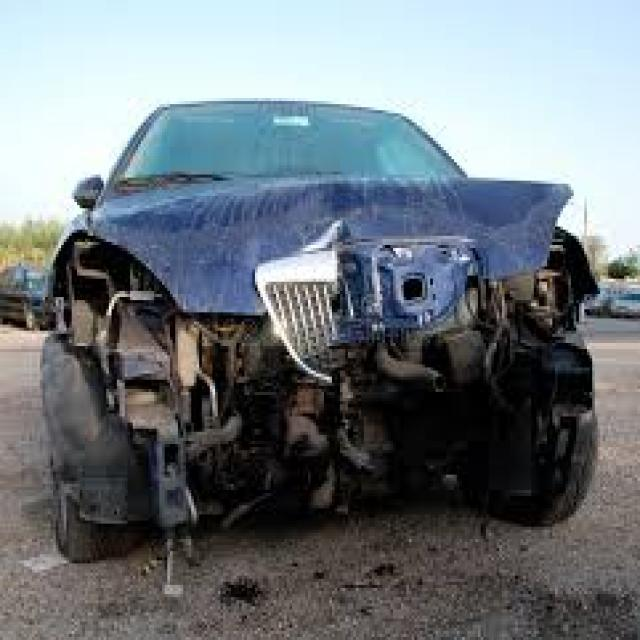damaged-hood: (94, 177, 582, 328)
